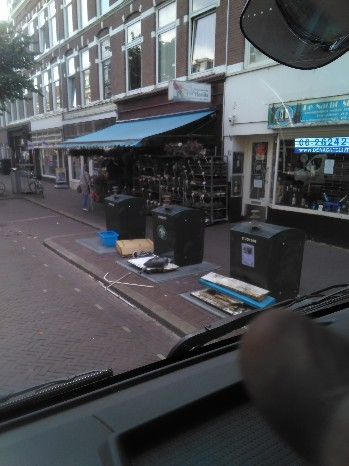Container: (235, 220, 298, 283), (151, 200, 205, 255), (107, 193, 142, 231)
Plastic: (96, 230, 118, 244)
Rest: (198, 272, 259, 317), (132, 253, 174, 278), (113, 239, 161, 258)
